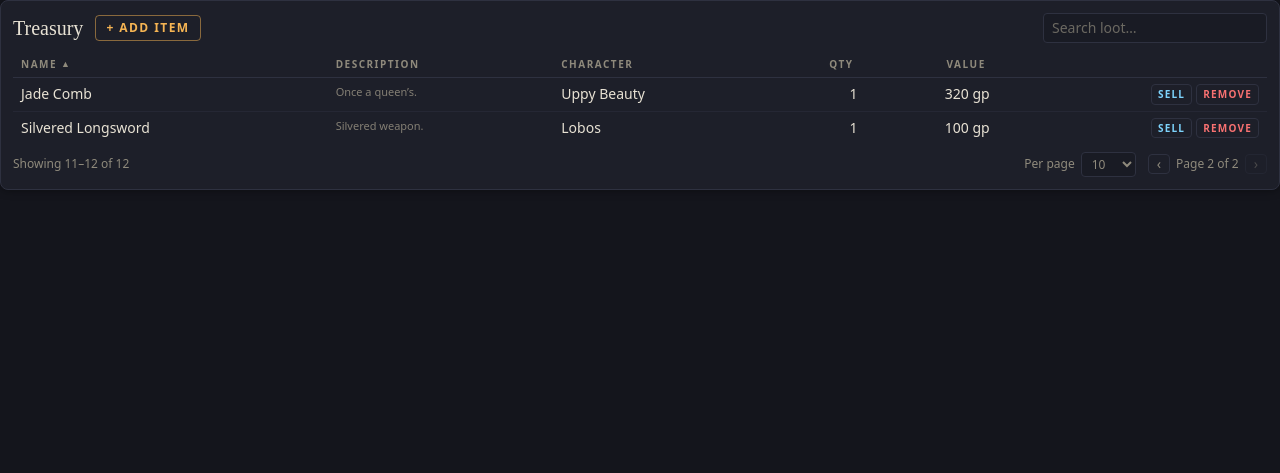
Test: LootTable — search › resets to page 1 and shrinks the page count as the search narrows
Step 1. Type "e" into the search field with test id "loot-search" → (1155, 28), box 1043,13 -> 1267,43
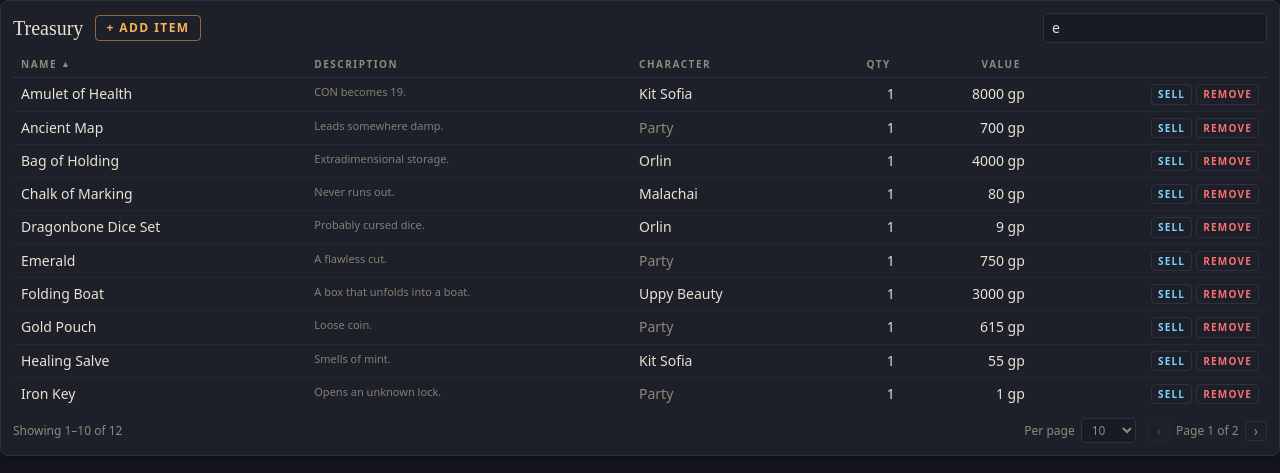
Expected: the text with test id "loot-page-info" reads "Page 1 of 2", 1176,422 -> 1239,439
Step 2. Replace the text in the search field with test id "loot-search" with "emerald" → (1155, 28), box 1043,13 -> 1267,43
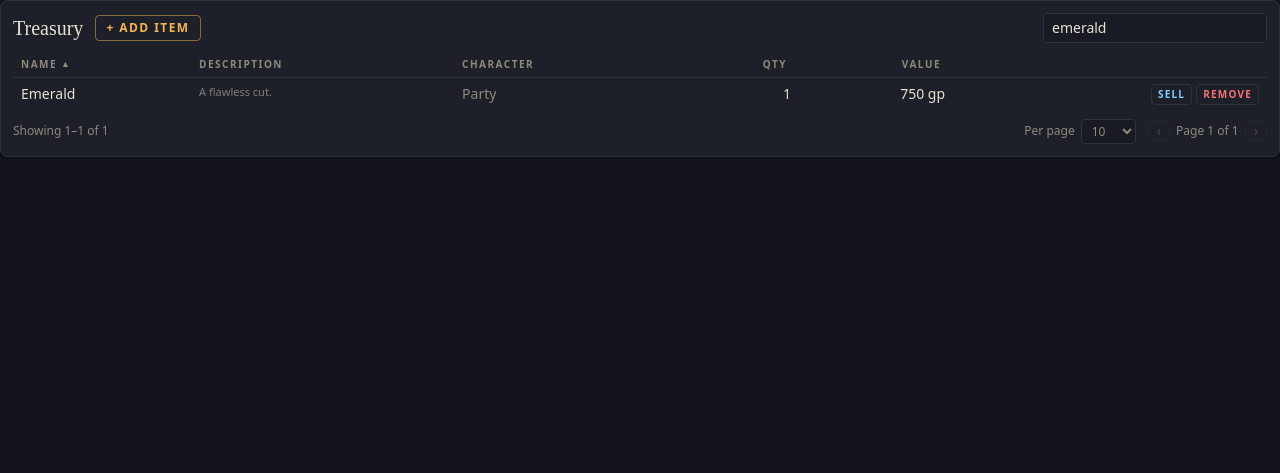
Expected: the text with test id "loot-page-info" reads "Page 1 of 1", 1176,122 -> 1239,139
